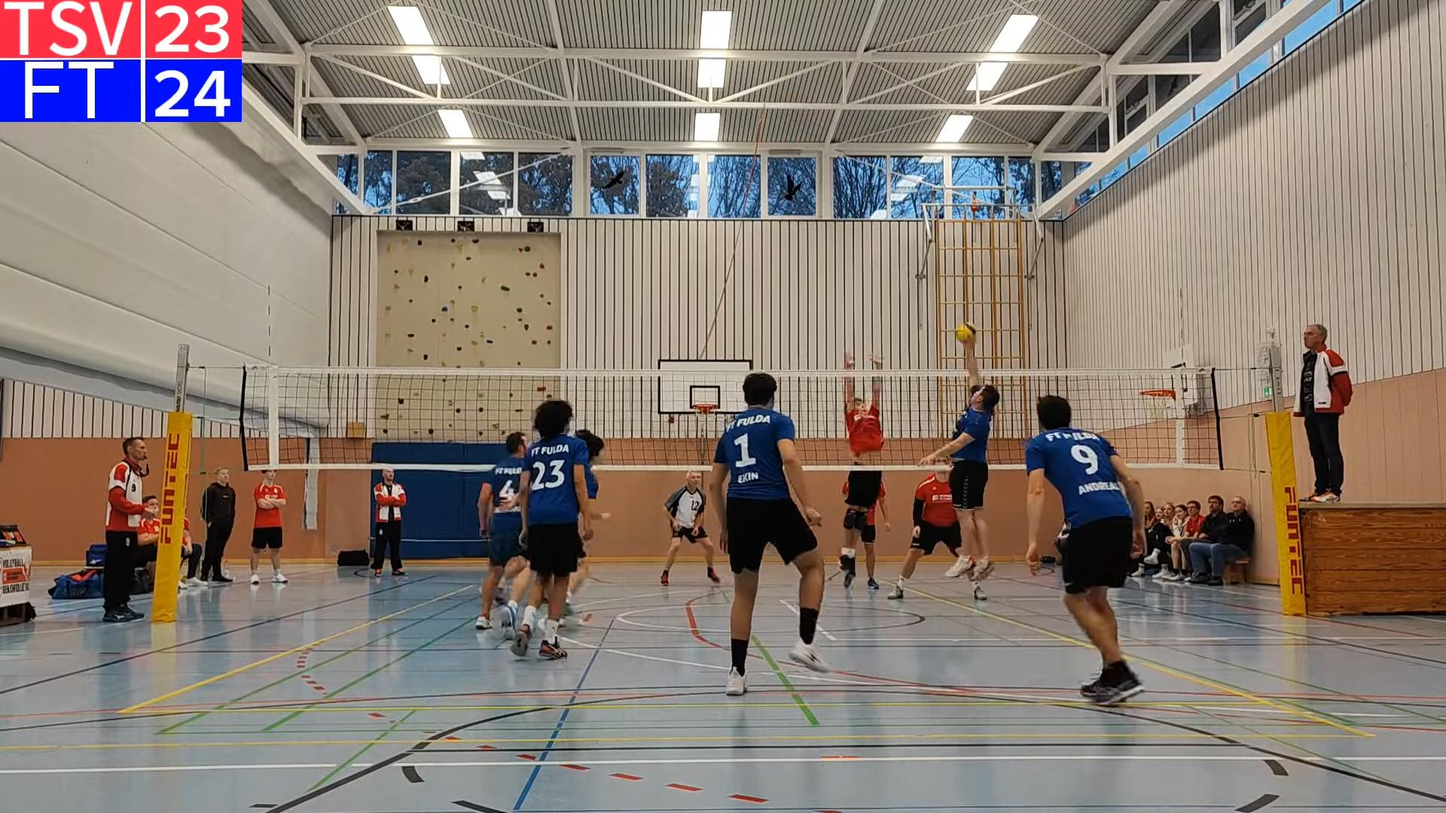attacco: (920, 318, 1001, 584)
muro: (842, 349, 888, 592)
